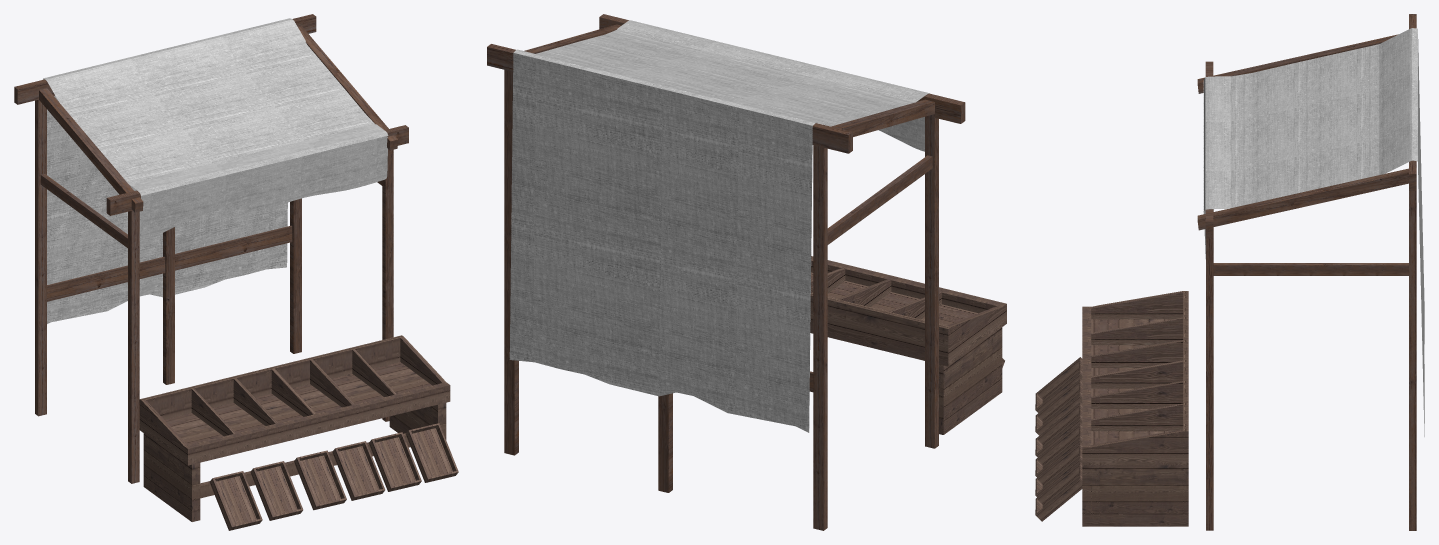
File: mercadinho3.fbx
3 renders of one model, left to right at view 1: azimuth 30°, elevation 25°; view 2: azimuth 150°, elevation 25°; view 3: azimuth 270°, elevation 25°, orthographic. The views are drawn at different scales.
Visible parts, largest first — view 1: Cube.007, Cube.008; view 2: Cube.007, Cube.008; view 3: Cube.007, Cube.008.
Boxes of the visible parts, x1,y1,x2,y2 form: Cube.007: (14,14,408,483); Cube.008: (139,335,458,530); Cube.007: (487,14,965,530); Cube.008: (810,256,1006,434); Cube.007: (1197,14,1424,530); Cube.008: (1035,291,1188,526).
Bounding box in the file's own units: 713 × 761 × 733.
